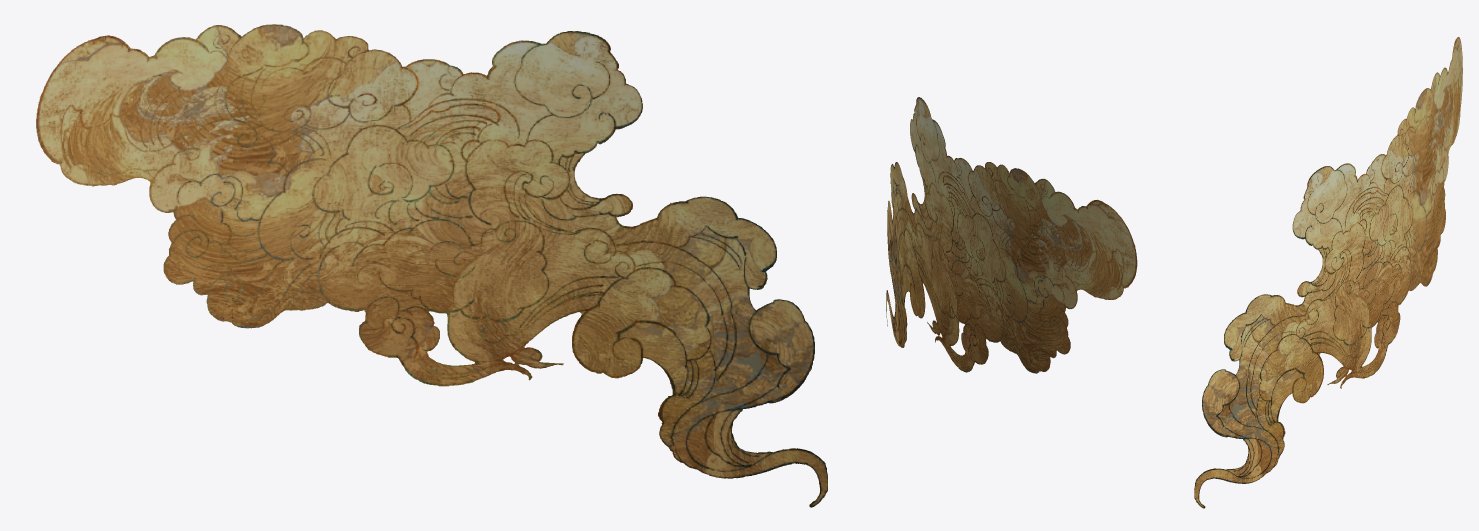
Rendered from yun_04.fbx.
3 renders of one model, left to right at view 1: azimuth 30°, elevation 25°; view 2: azimuth 150°, elevation 25°; view 3: azimuth 270°, elevation 25°, orthographic. The views are drawn at different scales.
Parts seen in each view (by area): view 1: yun_04; view 2: yun_04; view 3: yun_04.
Part boxes in pixels (x1,y1,x2,y2): yun_04: [36, 24, 827, 507]; yun_04: [886, 97, 1137, 373]; yun_04: [1194, 37, 1462, 508].
Bounding box in the file's own units: 5126 × 3604 × 3098.
